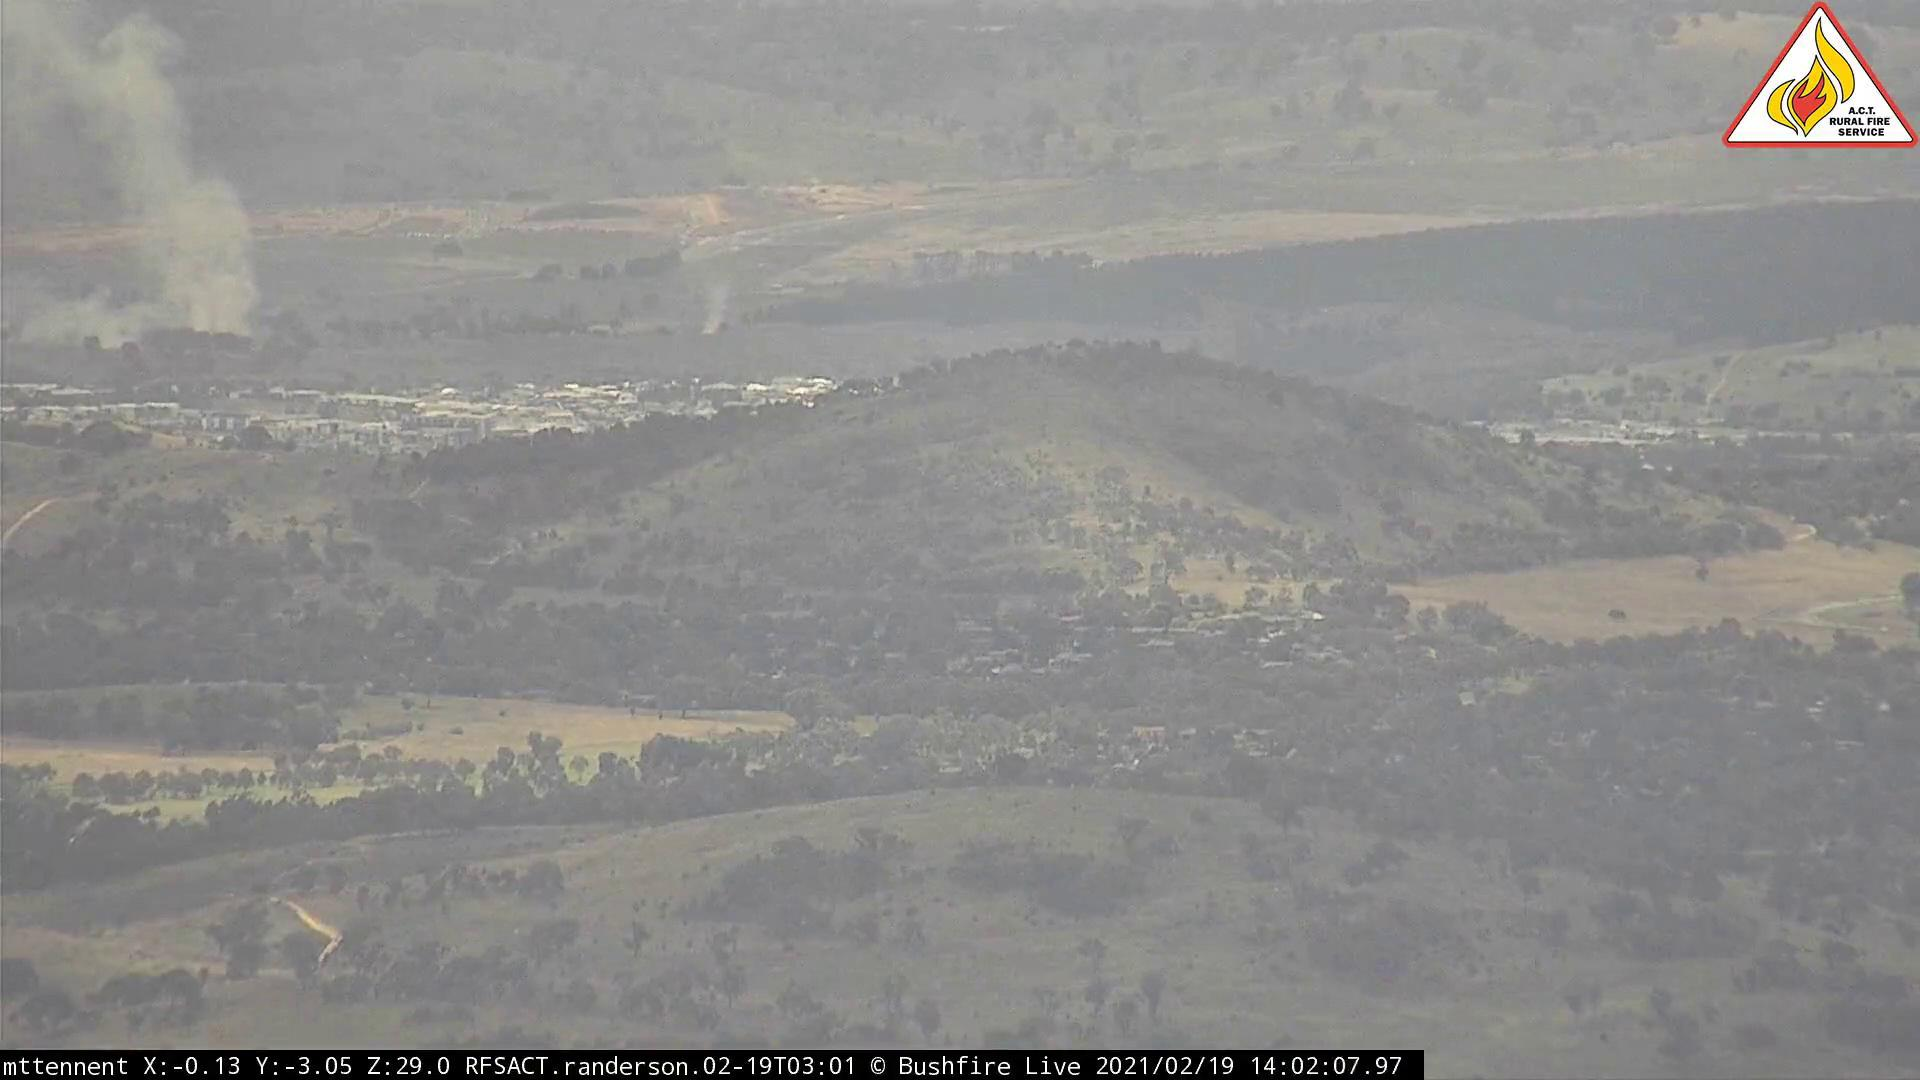Smoke: (3, 3, 285, 355), (673, 252, 761, 353)
